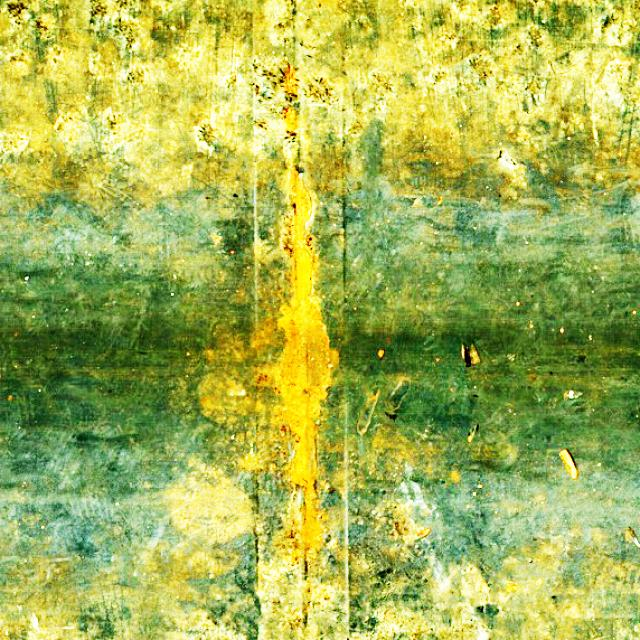Corrosion: (276, 168, 334, 547), (560, 450, 574, 478), (283, 68, 296, 95), (283, 108, 297, 133), (284, 549, 302, 566), (418, 527, 430, 538), (328, 539, 337, 549)
